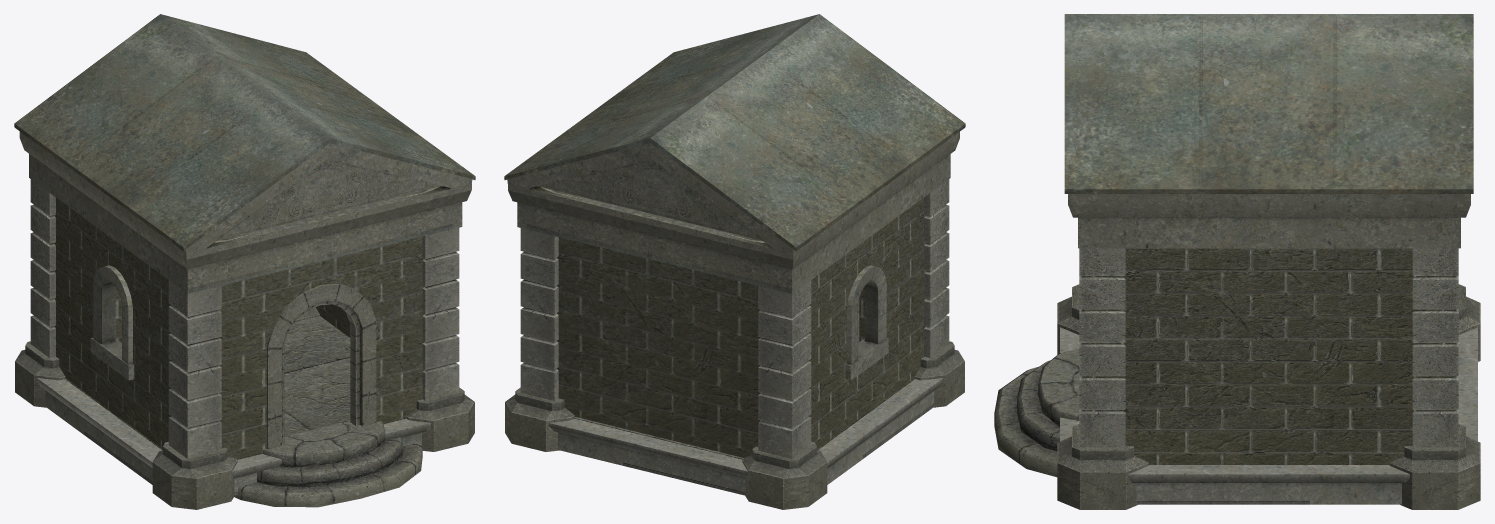
The model's file is Mausoleum.dae.
3 renders of one model, left to right at view 1: azimuth 30°, elevation 25°; view 2: azimuth 150°, elevation 25°; view 3: azimuth 270°, elevation 25°, orthographic. The views are drawn at different scales.
Parts seen in each view (by area): view 1: Mausoleum; view 2: Mausoleum; view 3: Mausoleum.
Boxes of the visible parts, left/top/right/bottom form: Mausoleum: left=14, top=14, right=475, bottom=509; Mausoleum: left=504, top=14, right=965, bottom=509; Mausoleum: left=994, top=14, right=1480, bottom=509.
Size of the model in its own units: 5.73 by 6.59 by 6.14.
